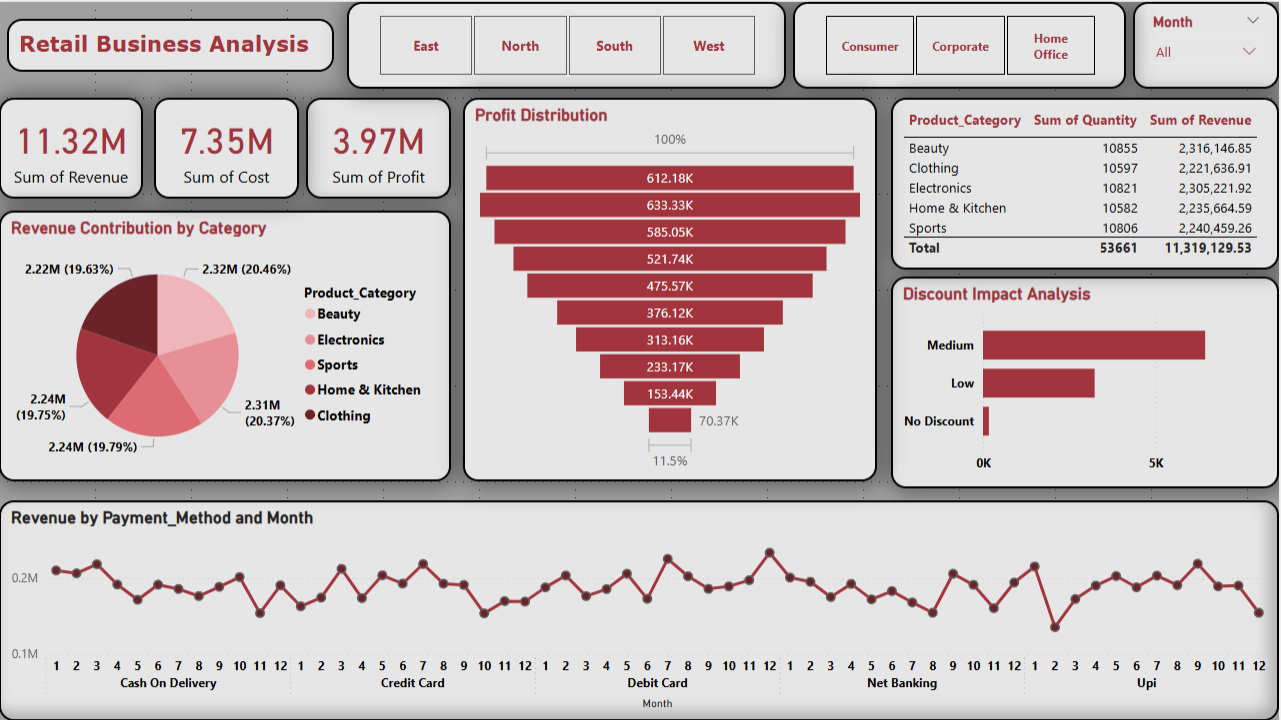

The page's visual inventory and layout, read from the dashboard file:
{"tool":"powerbi","page":{"name":"Page 1","canvas":[1280,720],"ordinal":0},"visuals":[{"type":"card","fields":{"Values":["Sum(Cleaned  Data.Profit)"]},"box":[307,96,145,101],"z":0},{"type":"card","fields":{"Values":["Sum(Cleaned  Data.Revenue)"]},"box":[0,96,144,101],"z":1000},{"type":"textbox","box":[8,17,327,53],"z":2000},{"type":"slicer","fields":{"Values":["Cleaned  Data.Region"]},"box":[348,0,439,87],"z":3000},{"type":"clusteredBarChart","title":"Discount Impact Analysis","fields":{"Y":["CountNonNull(Cleaned  Data.Product_Category)"],"Category":["Cleaned  Data.Discount_Category"]},"box":[892,275,388,212],"z":4000},{"type":"slicer","fields":{"Values":["Cleaned  Data.Month_Name"]},"box":[1134,0,146,87],"z":5000},{"type":"slicer","fields":{"Values":["Cleaned  Data.Customer_Segment"]},"box":[794,0,333,87],"z":6000},{"type":"pieChart","title":"Revenue Contribution by Category","fields":{"Y":["Sum(Cleaned  Data.Calculated_Revenue)"],"Category":["Cleaned  Data.Product_Category"]},"box":[0,209,452,271],"z":7000},{"type":"card","fields":{"Values":["Sum(Cleaned  Data.Cost)"]},"box":[155,96,145,101],"z":8000},{"type":"tableEx","fields":{"Values":["Cleaned  Data.Product_Category","Sum(Cleaned  Data.Quantity)","Sum(Cleaned  Data.Revenue)"]},"box":[892,96,388,172],"z":9000},{"type":"lineChart","title":"Revenue by Payment_Method and Month","fields":{"Category":["Cleaned  Data.Payment_Method","Cleaned  Data.Month"],"Y":["Sum(Cleaned  Data.Revenue)"]},"box":[0,499,1280,221],"z":10000},{"type":"funnel","title":"Profit Distribution","fields":{"Category":["Cleaned  Data.Unit_Price","Cleaned  Data.Product_Category","Cleaned  Data.Quantity"],"Y":["Sum(Cleaned  Data.Profit)"]},"box":[464,96,414,384],"z":11000}]}

Visuals, with their boxes in screenshot pixels (x1, y1, x2, y2), scaled from the page's 1280x720 canvas onto the 1281x720 screenshot:
card - Sum(Cleaned  Data.Profit): locate(307, 96, 452, 197)
card - Sum(Cleaned  Data.Revenue): locate(0, 96, 144, 197)
textbox: locate(8, 17, 335, 70)
slicer - Cleaned  Data.Region: locate(348, 0, 788, 87)
"Discount Impact Analysis" clusteredBarChart: locate(893, 275, 1280, 487)
slicer - Cleaned  Data.Month_Name: locate(1135, 0, 1280, 87)
slicer - Cleaned  Data.Customer_Segment: locate(795, 0, 1128, 87)
"Revenue Contribution by Category" pieChart: locate(0, 209, 452, 480)
card - Sum(Cleaned  Data.Cost): locate(155, 96, 300, 197)
tableEx - Cleaned  Data.Product_Category x Sum(Cleaned  Data.Quantity): locate(893, 96, 1280, 268)
"Revenue by Payment_Method and Month" lineChart: locate(0, 499, 1280, 719)
"Profit Distribution" funnel: locate(464, 96, 879, 480)
